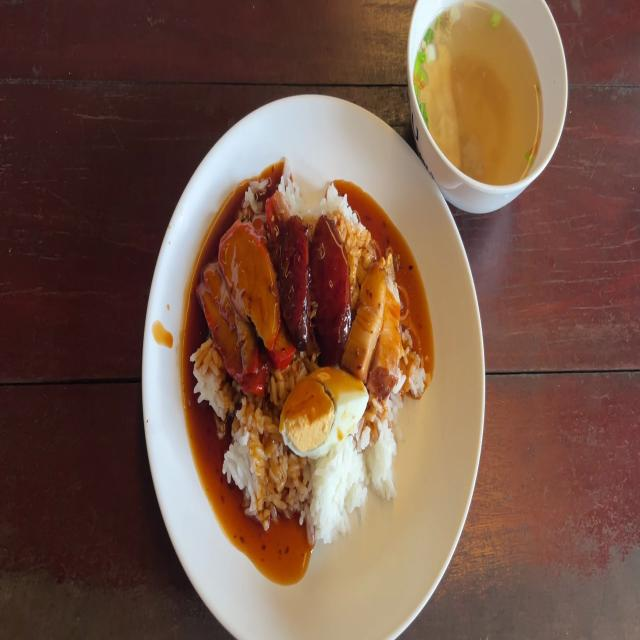red_pork_and_crispy_pork: (282, 368, 366, 452)
stir_fried_basil: (274, 209, 352, 359), (310, 213, 353, 350), (278, 212, 309, 345)
